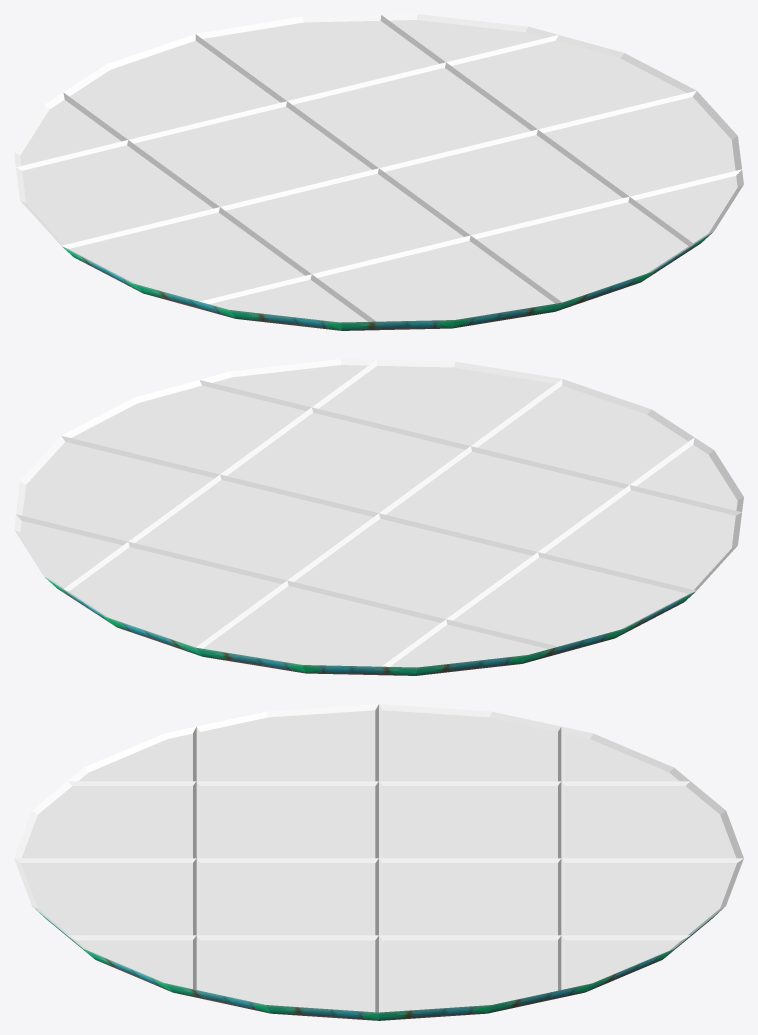
File: mirrors_bake.dae
3 renders of one model, top to bottom at view 1: azimuth 30°, elevation 25°; view 2: azimuth 150°, elevation 25°; view 3: azimuth 270°, elevation 25°, orthographic.
Visible parts, largest first — view 1: m0, m1; view 2: m0, m1; view 3: m0, m1.
Boxes of the visible parts, left/top/right/bottom form: m0: left=14, top=14, right=743, bottom=322; m1: left=62, top=232, right=712, bottom=330; m0: left=14, top=359, right=743, bottom=667; m1: left=45, top=577, right=695, bottom=675; m0: left=14, top=704, right=743, bottom=1012; m1: left=32, top=906, right=725, bottom=1020.
Bounding box in the file's own units: 2000 × 333 × 2000.
Materials: 3 (2 with a texture image).
